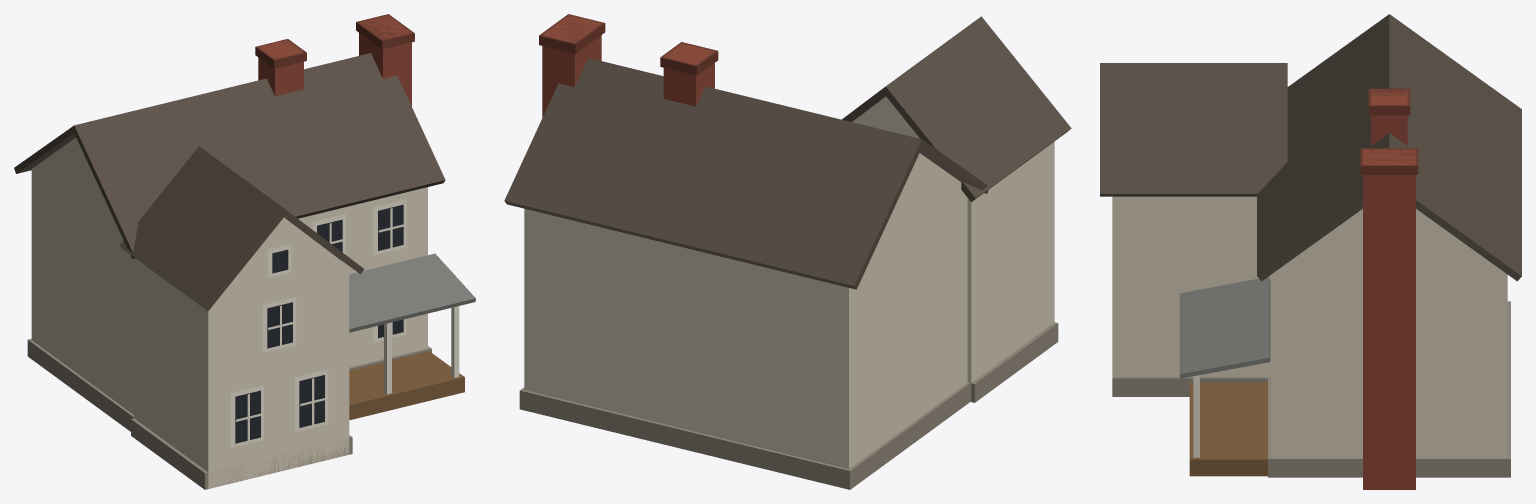
File: house_l.glb
3 views of the same model, side by side, from view 1: azimuth 30°, elevation 25°; view 2: azimuth 150°, elevation 25°; view 3: azimuth 270°, elevation 25° (orthographic). The views are drawn at different scales.
Parts seen in each view (by area): view 1: house_l; view 2: house_l; view 3: house_l.
Boxes of the visible parts, <box> form: house_l: <box>14,14,475,489</box>; house_l: <box>504,14,1071,489</box>; house_l: <box>1100,14,1521,489</box>.
Bounding box in the file's own units: 10.26 × 8.9 × 10.35.
